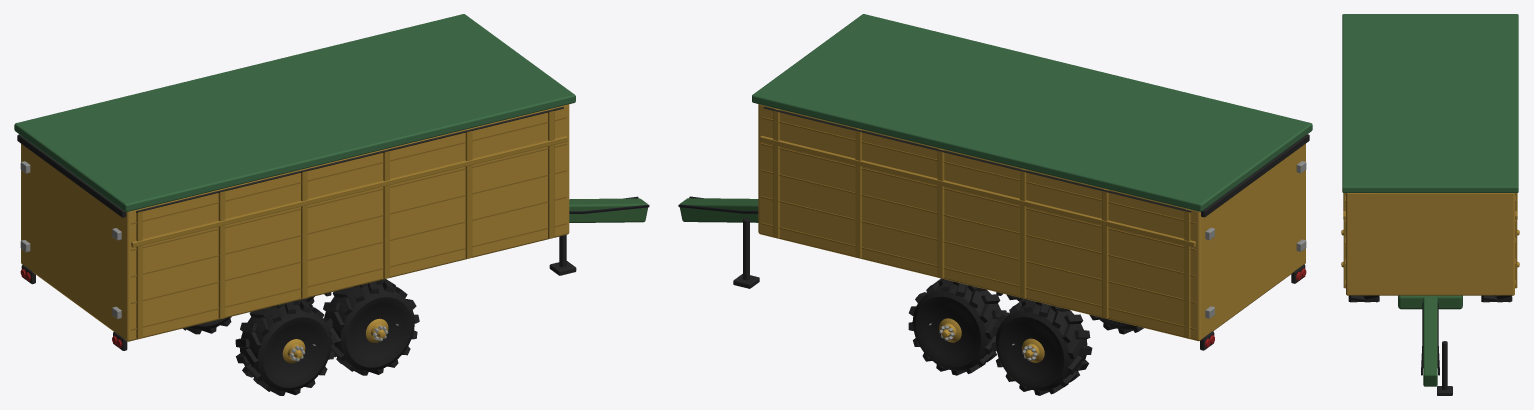
The model's file is SM_Prop_farm_tipper_0.glb.
3 renders of one model, left to right at view 1: azimuth 30°, elevation 25°; view 2: azimuth 150°, elevation 25°; view 3: azimuth 270°, elevation 25°, orthographic. The views are drawn at different scales.
Visible parts, largest first — view 1: SM_Prop_farm_tipper_0; view 2: SM_Prop_farm_tipper_0; view 3: SM_Prop_farm_tipper_0.
Part boxes in pixels (x1,y1,x2,y2): SM_Prop_farm_tipper_0: (14,14,649,395); SM_Prop_farm_tipper_0: (678,14,1312,395); SM_Prop_farm_tipper_0: (1341,14,1519,395).
Size of the model in its own units: 7.28 by 2.85 by 2.48.
